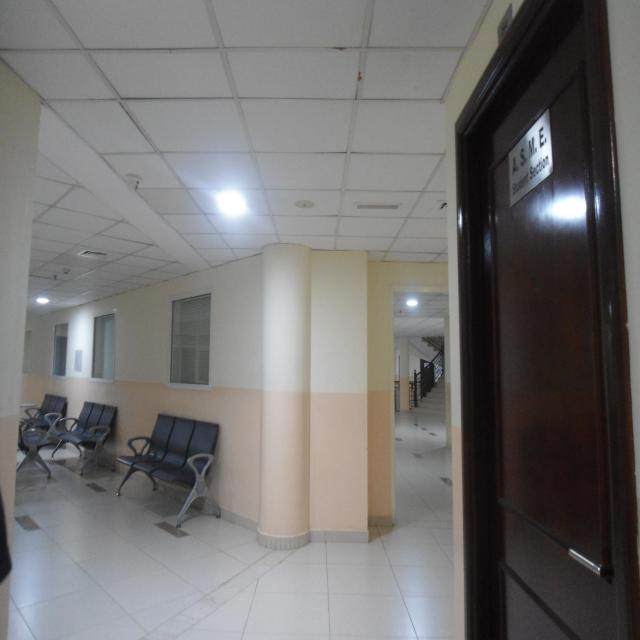bench: (125, 402, 223, 517), (57, 394, 113, 477), (26, 380, 64, 464)
door: (442, 0, 634, 640)
light: (211, 188, 265, 224)
wall: (214, 250, 388, 555)
window: (170, 291, 211, 391), (95, 304, 128, 383), (48, 325, 68, 372)
